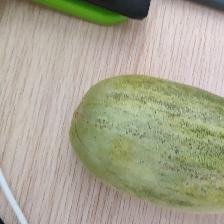gua: (72, 69, 224, 213)
